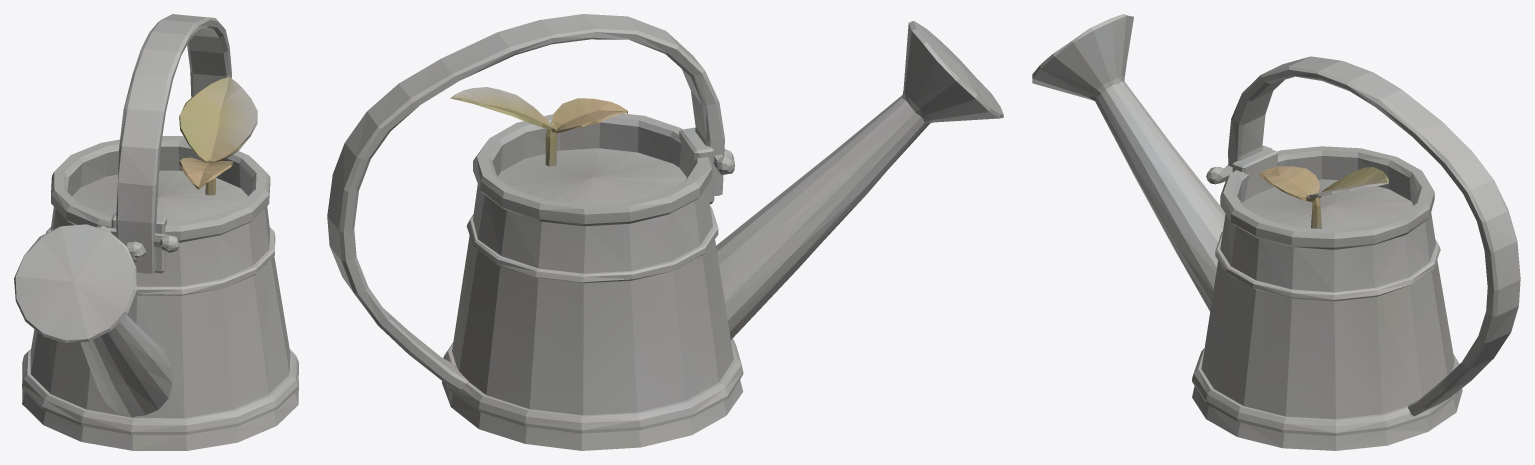
The model's file is wateringcan.glb.
The picture shows the model from 3 angles, left to right: view 1: azimuth 30°, elevation 25°; view 2: azimuth 150°, elevation 25°; view 3: azimuth 270°, elevation 25°; orthographic projection. The views are drawn at different scales.
Visible parts, largest first — view 1: geometry_0; view 2: geometry_0; view 3: geometry_0.
Boxes of the visible parts, x1,y1,x2,y2 form: geometry_0: [14, 14, 298, 450]; geometry_0: [327, 14, 1003, 450]; geometry_0: [1032, 14, 1520, 450].
Size of the model in its own units: 0.1445 by 0.1133 by 0.1523.
